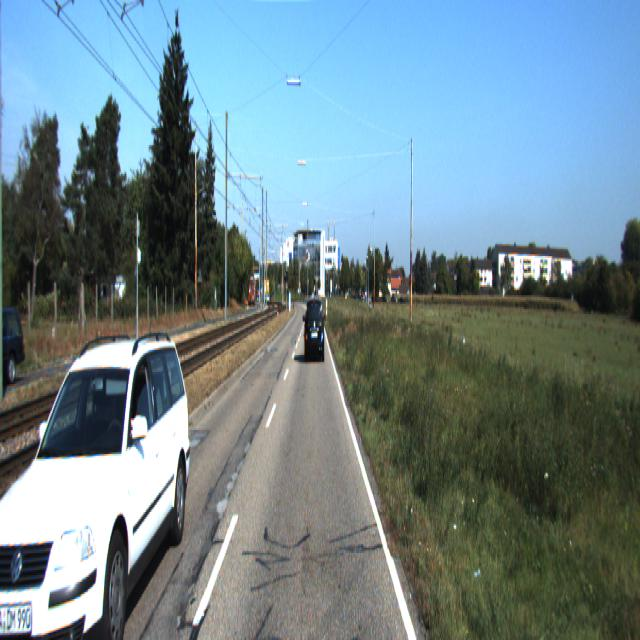Car: (0, 330, 196, 638), (305, 296, 325, 363)
